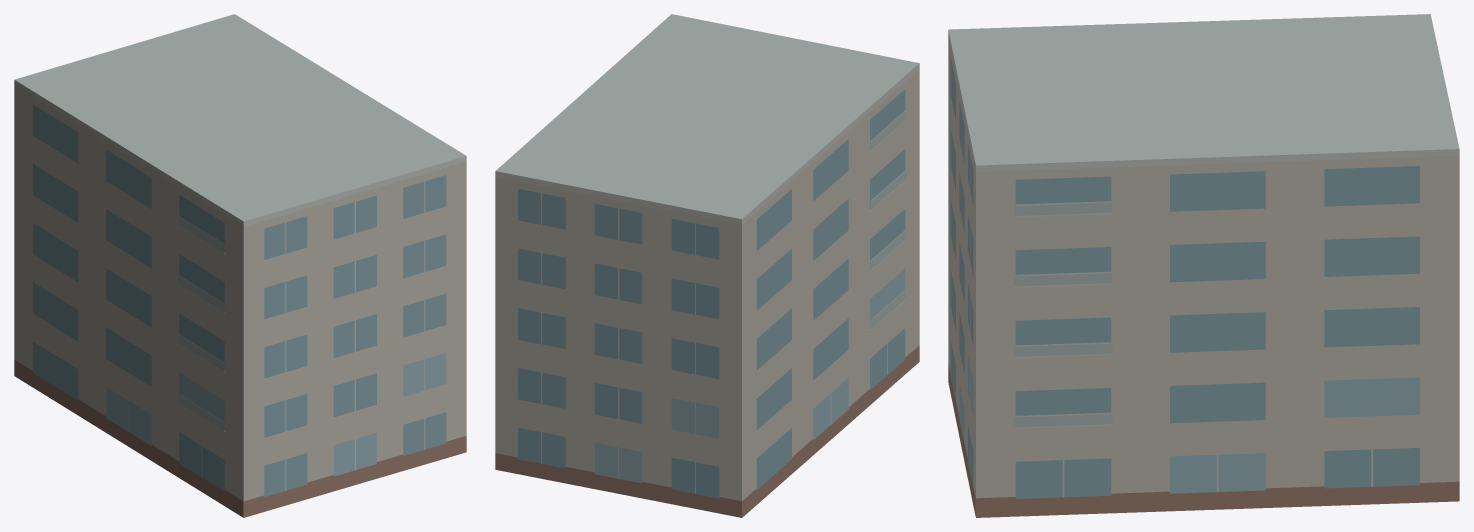
The model's file is survey-upis-32577435.glb.
The picture shows the model from 3 angles, left to right: view 1: azimuth 30°, elevation 25°; view 2: azimuth 150°, elevation 25°; view 3: azimuth 270°, elevation 25°; orthographic projection. The views are drawn at different scales.
Visible parts, largest first — view 1: survey-upis-32577435.tmp; view 2: survey-upis-32577435.tmp; view 3: survey-upis-32577435.tmp.
Boxes of the visible parts, <box> form: survey-upis-32577435.tmp: <box>14,14,466,517</box>; survey-upis-32577435.tmp: <box>495,14,919,517</box>; survey-upis-32577435.tmp: <box>948,14,1459,517</box>.
Bounding box in the file's own units: 12.18 × 13.2 × 17.36.
